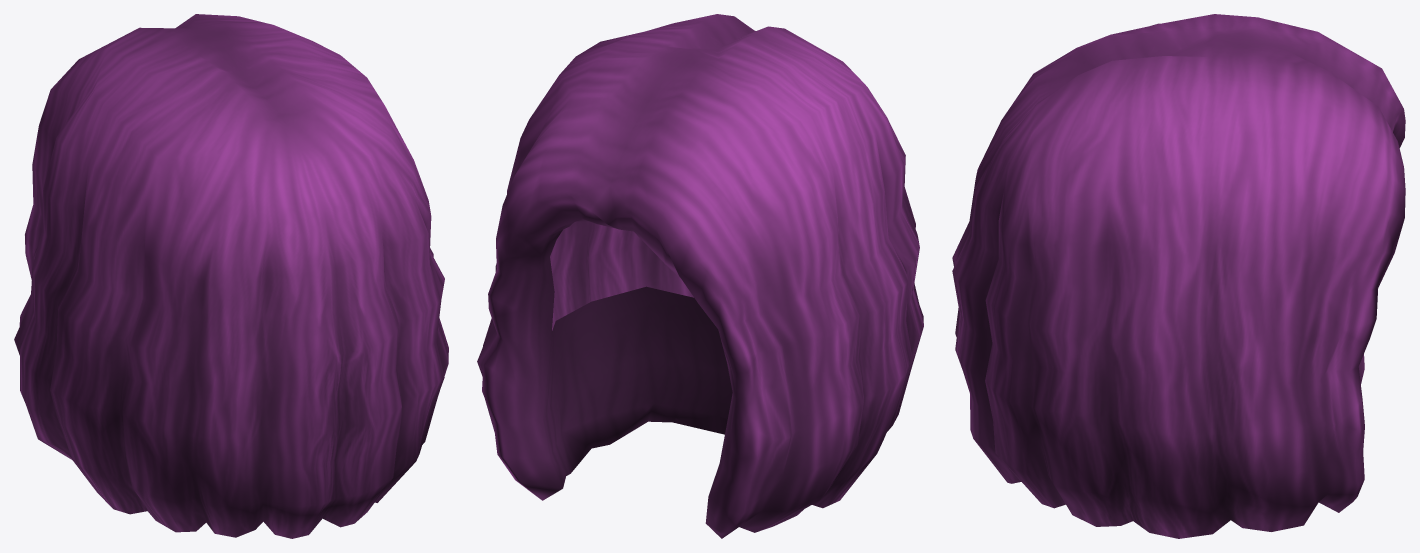
The model's file is Hair_Female_006_textured_purple.glb.
3 renders of one model, left to right at view 1: azimuth 30°, elevation 25°; view 2: azimuth 150°, elevation 25°; view 3: azimuth 270°, elevation 25°, orthographic. The views are drawn at different scales.
Visible parts, largest first — view 1: Hair_Female_006; view 2: Hair_Female_006; view 3: Hair_Female_006.
Boxes of the visible parts, x1,y1,x2,y2 form: Hair_Female_006: [14, 14, 448, 538]; Hair_Female_006: [477, 14, 923, 538]; Hair_Female_006: [952, 14, 1405, 538].
Bounding box in the file's own units: 0.2471 × 0.277 × 0.2597.
Materials: 1 (1 with a texture image).
